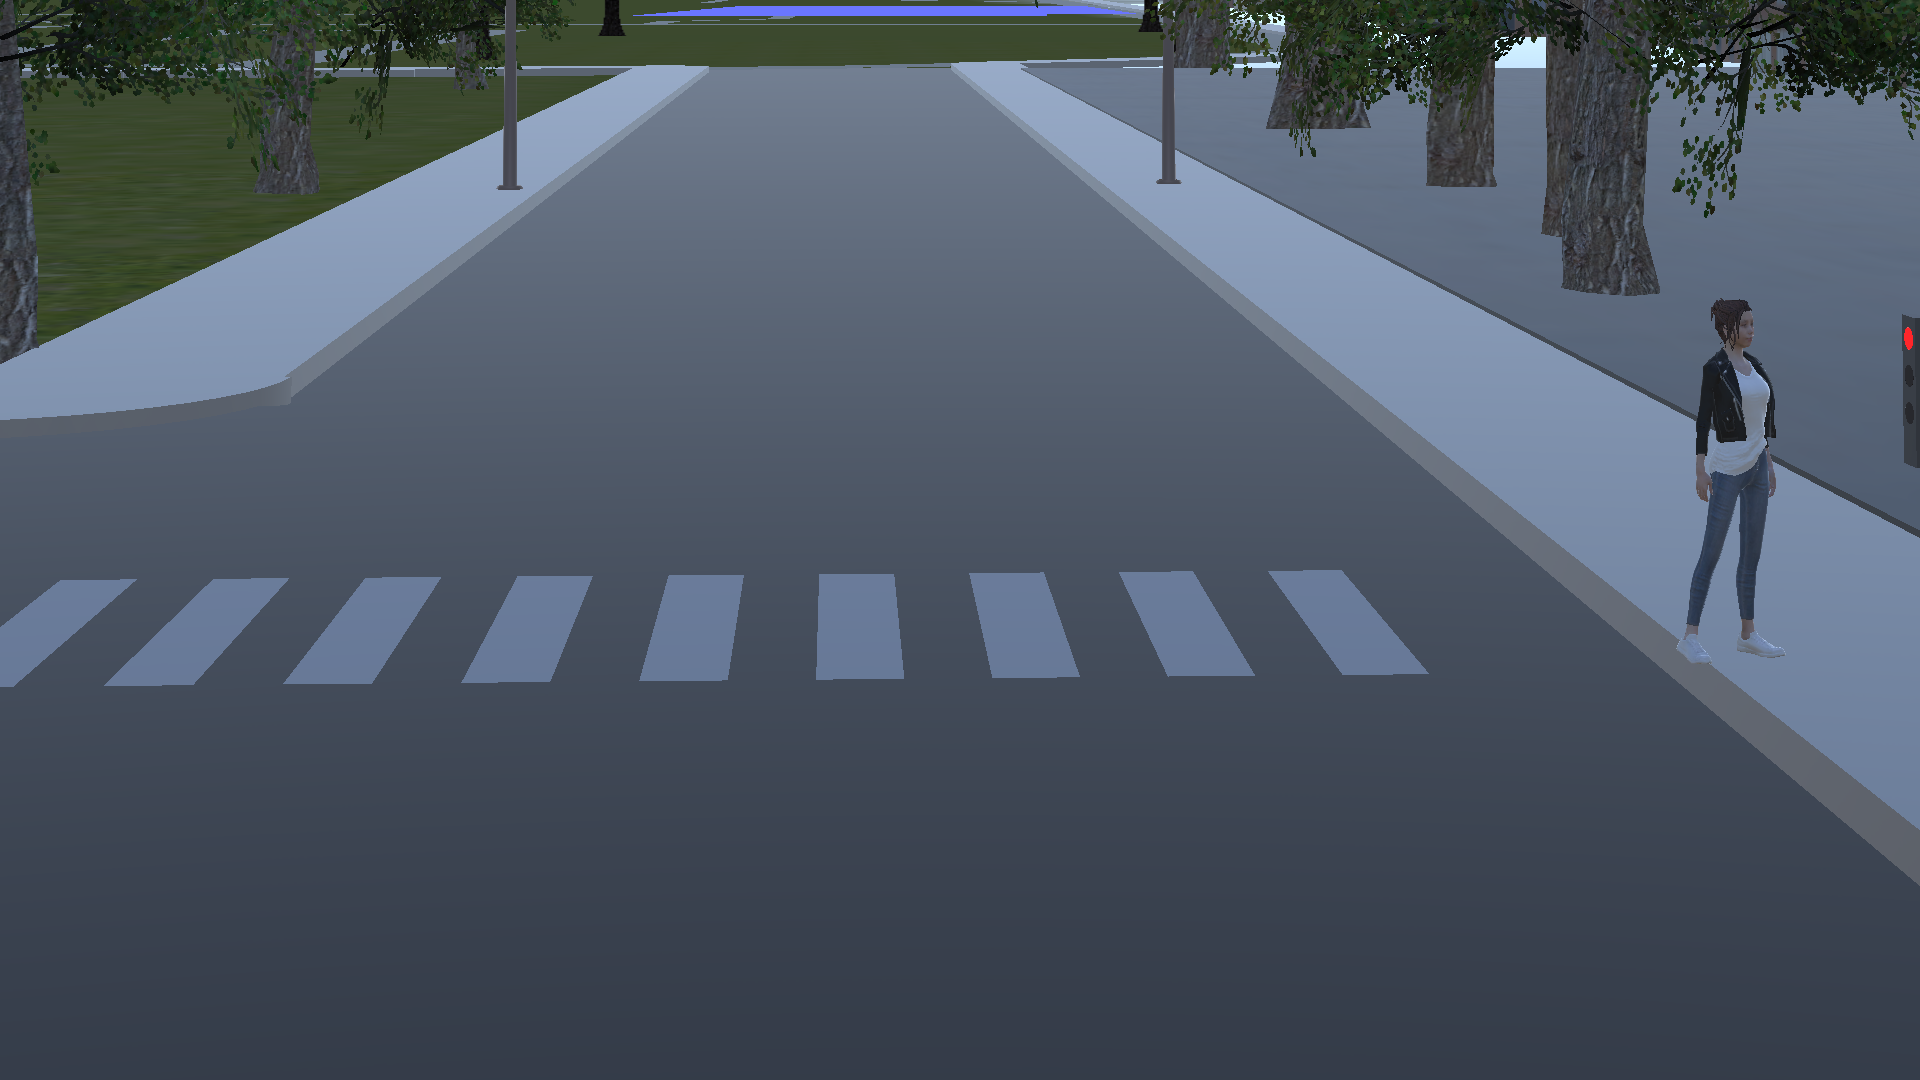pedestrian: (1670, 277, 1801, 703)
